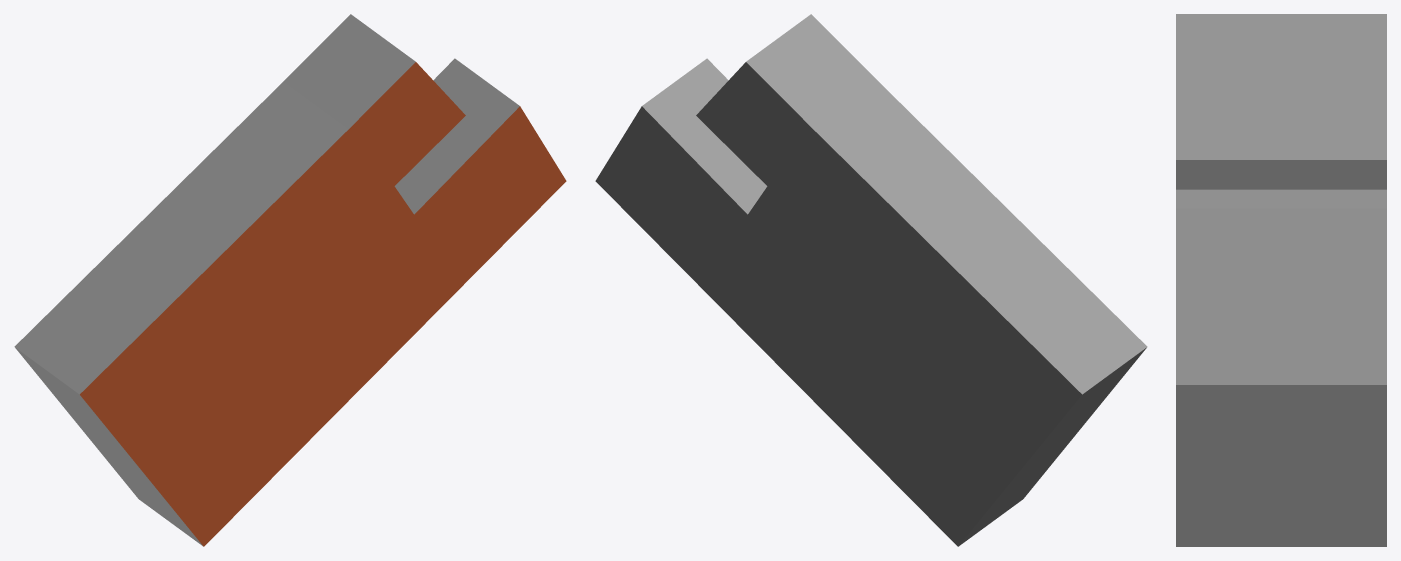
Rendered from construction_4034_assumed_A_Casa_h6m.obj.
3 renders of one model, left to right at view 1: azimuth 30°, elevation 25°; view 2: azimuth 150°, elevation 25°; view 3: azimuth 270°, elevation 25°, orthographic. The views are drawn at different scales.
Parts seen in each view (by area): view 1: construction_4034_assumed_A_Casa; view 2: construction_4034_assumed_A_Casa; view 3: construction_4034_assumed_A_Casa.
Part boxes in pixels (x1=…): construction_4034_assumed_A_Casa: x1=14, y1=14, x2=566, y2=546; construction_4034_assumed_A_Casa: x1=595, y1=14, x2=1147, y2=546; construction_4034_assumed_A_Casa: x1=1176, y1=14, x2=1386, y2=546.
Size of the model in its own units: 25.84 by 21.98 by 6.
